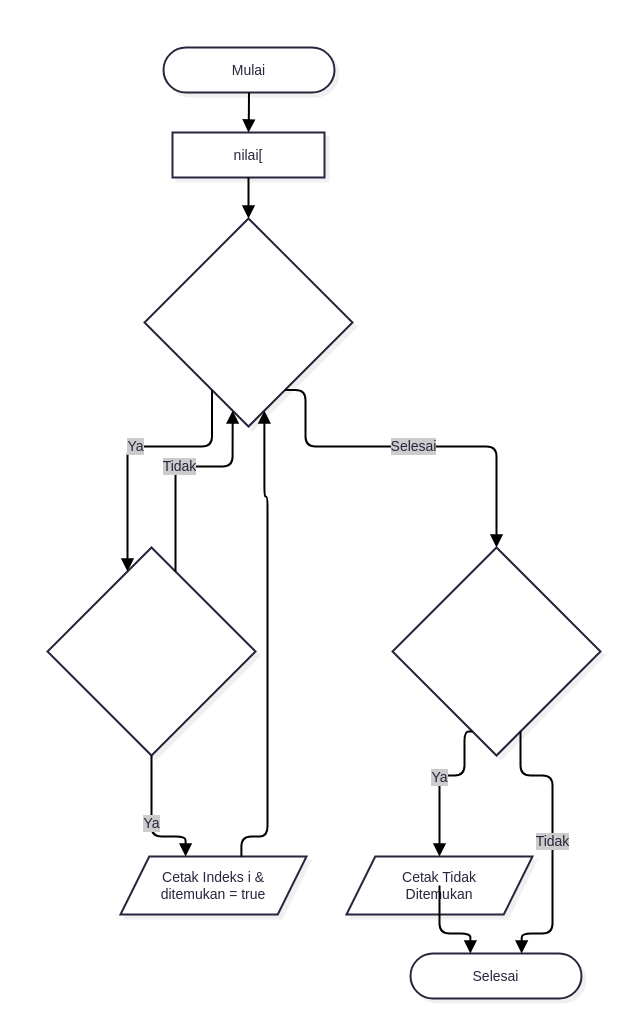
The diagram is 622 pixels wide and 1020 high, and some of its shapes have lost their labels. The centre of each missing label's shape, as x and y in pixels:
"ditemukan == false?" belongs at point (498, 653).
"Loop i dari 0 s.d. akhir" belongs at point (250, 324).
"nilai[i] == n?" belongs at point (153, 653).
